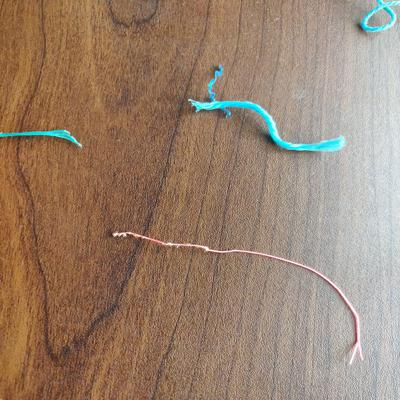thread: (109, 232, 369, 364), (187, 95, 349, 159), (1, 127, 87, 152), (206, 58, 232, 122), (359, 1, 400, 37)
